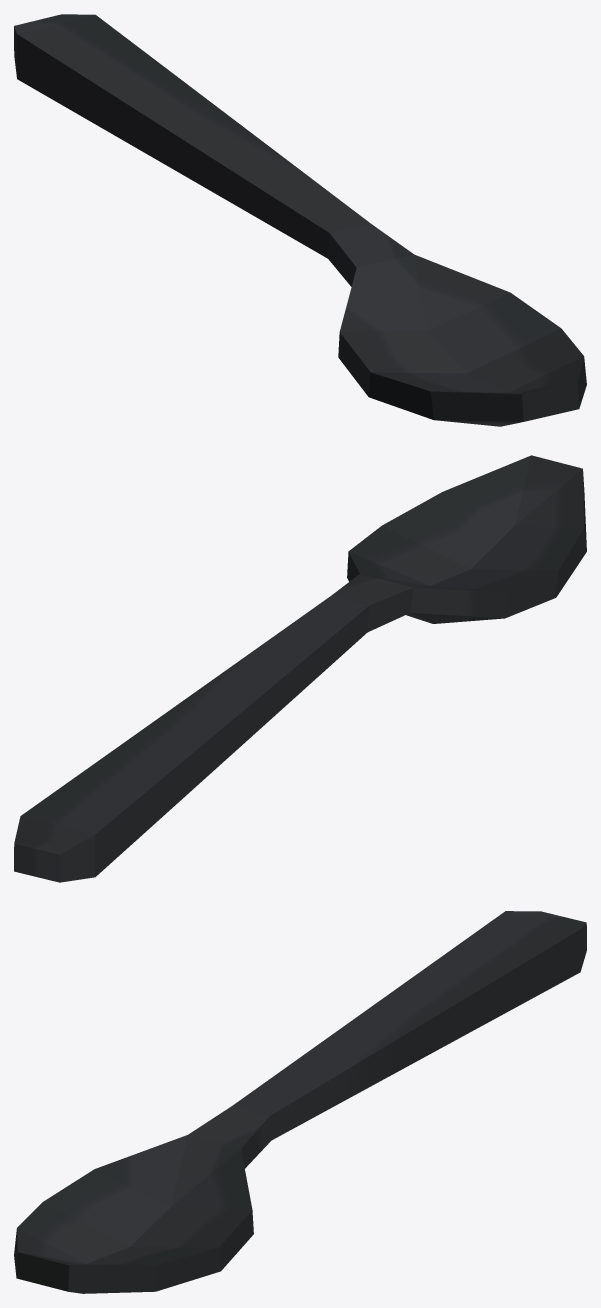
Rendered from SM_Prop_Spoon_01.fbx.
3 renders of one model, top to bottom at view 1: azimuth 30°, elevation 25°; view 2: azimuth 150°, elevation 25°; view 3: azimuth 330°, elevation 25°, orthographic. The views are drawn at different scales.
Visible parts, largest first — view 1: SM_Prop_Spoon_01; view 2: SM_Prop_Spoon_01; view 3: SM_Prop_Spoon_01.
Part boxes in pixels (x1,y1,x2,y2): SM_Prop_Spoon_01: [14, 14, 586, 426]; SM_Prop_Spoon_01: [14, 455, 586, 882]; SM_Prop_Spoon_01: [14, 911, 586, 1293].
Bounding box in the file's own units: 7.55 × 3.24 × 36.94.
